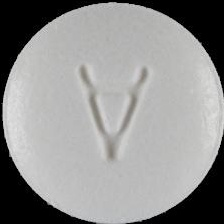33261-180: (0, 0, 224, 224)
